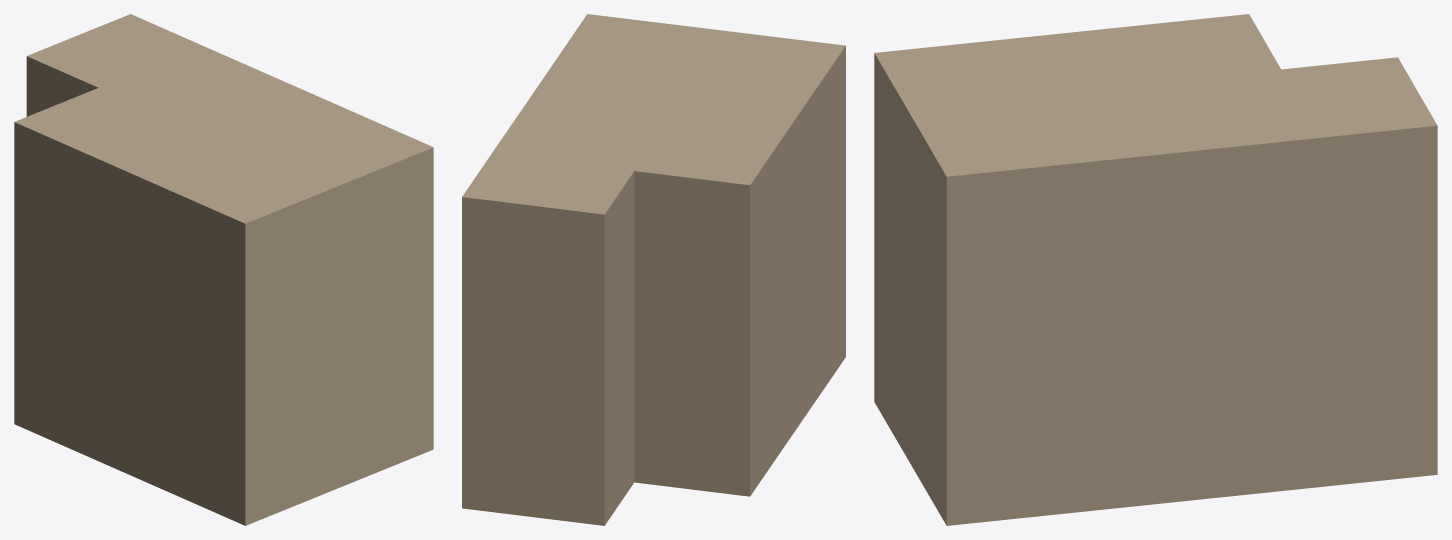
The model's file is bld_106456244.dae.
3 views of the same model, side by side, from view 1: azimuth 30°, elevation 25°; view 2: azimuth 150°, elevation 25°; view 3: azimuth 270°, elevation 25° (orthographic). The views are drawn at different scales.
Visible parts, largest first — view 1: bld_106456244; view 2: bld_106456244; view 3: bld_106456244.
Boxes of the visible parts, x1,y1,x2,y2 form: bld_106456244: (14,14,433,525); bld_106456244: (462,14,845,525); bld_106456244: (874,14,1437,525).
Size of the model in its own units: 8 by 11.69 by 8.
